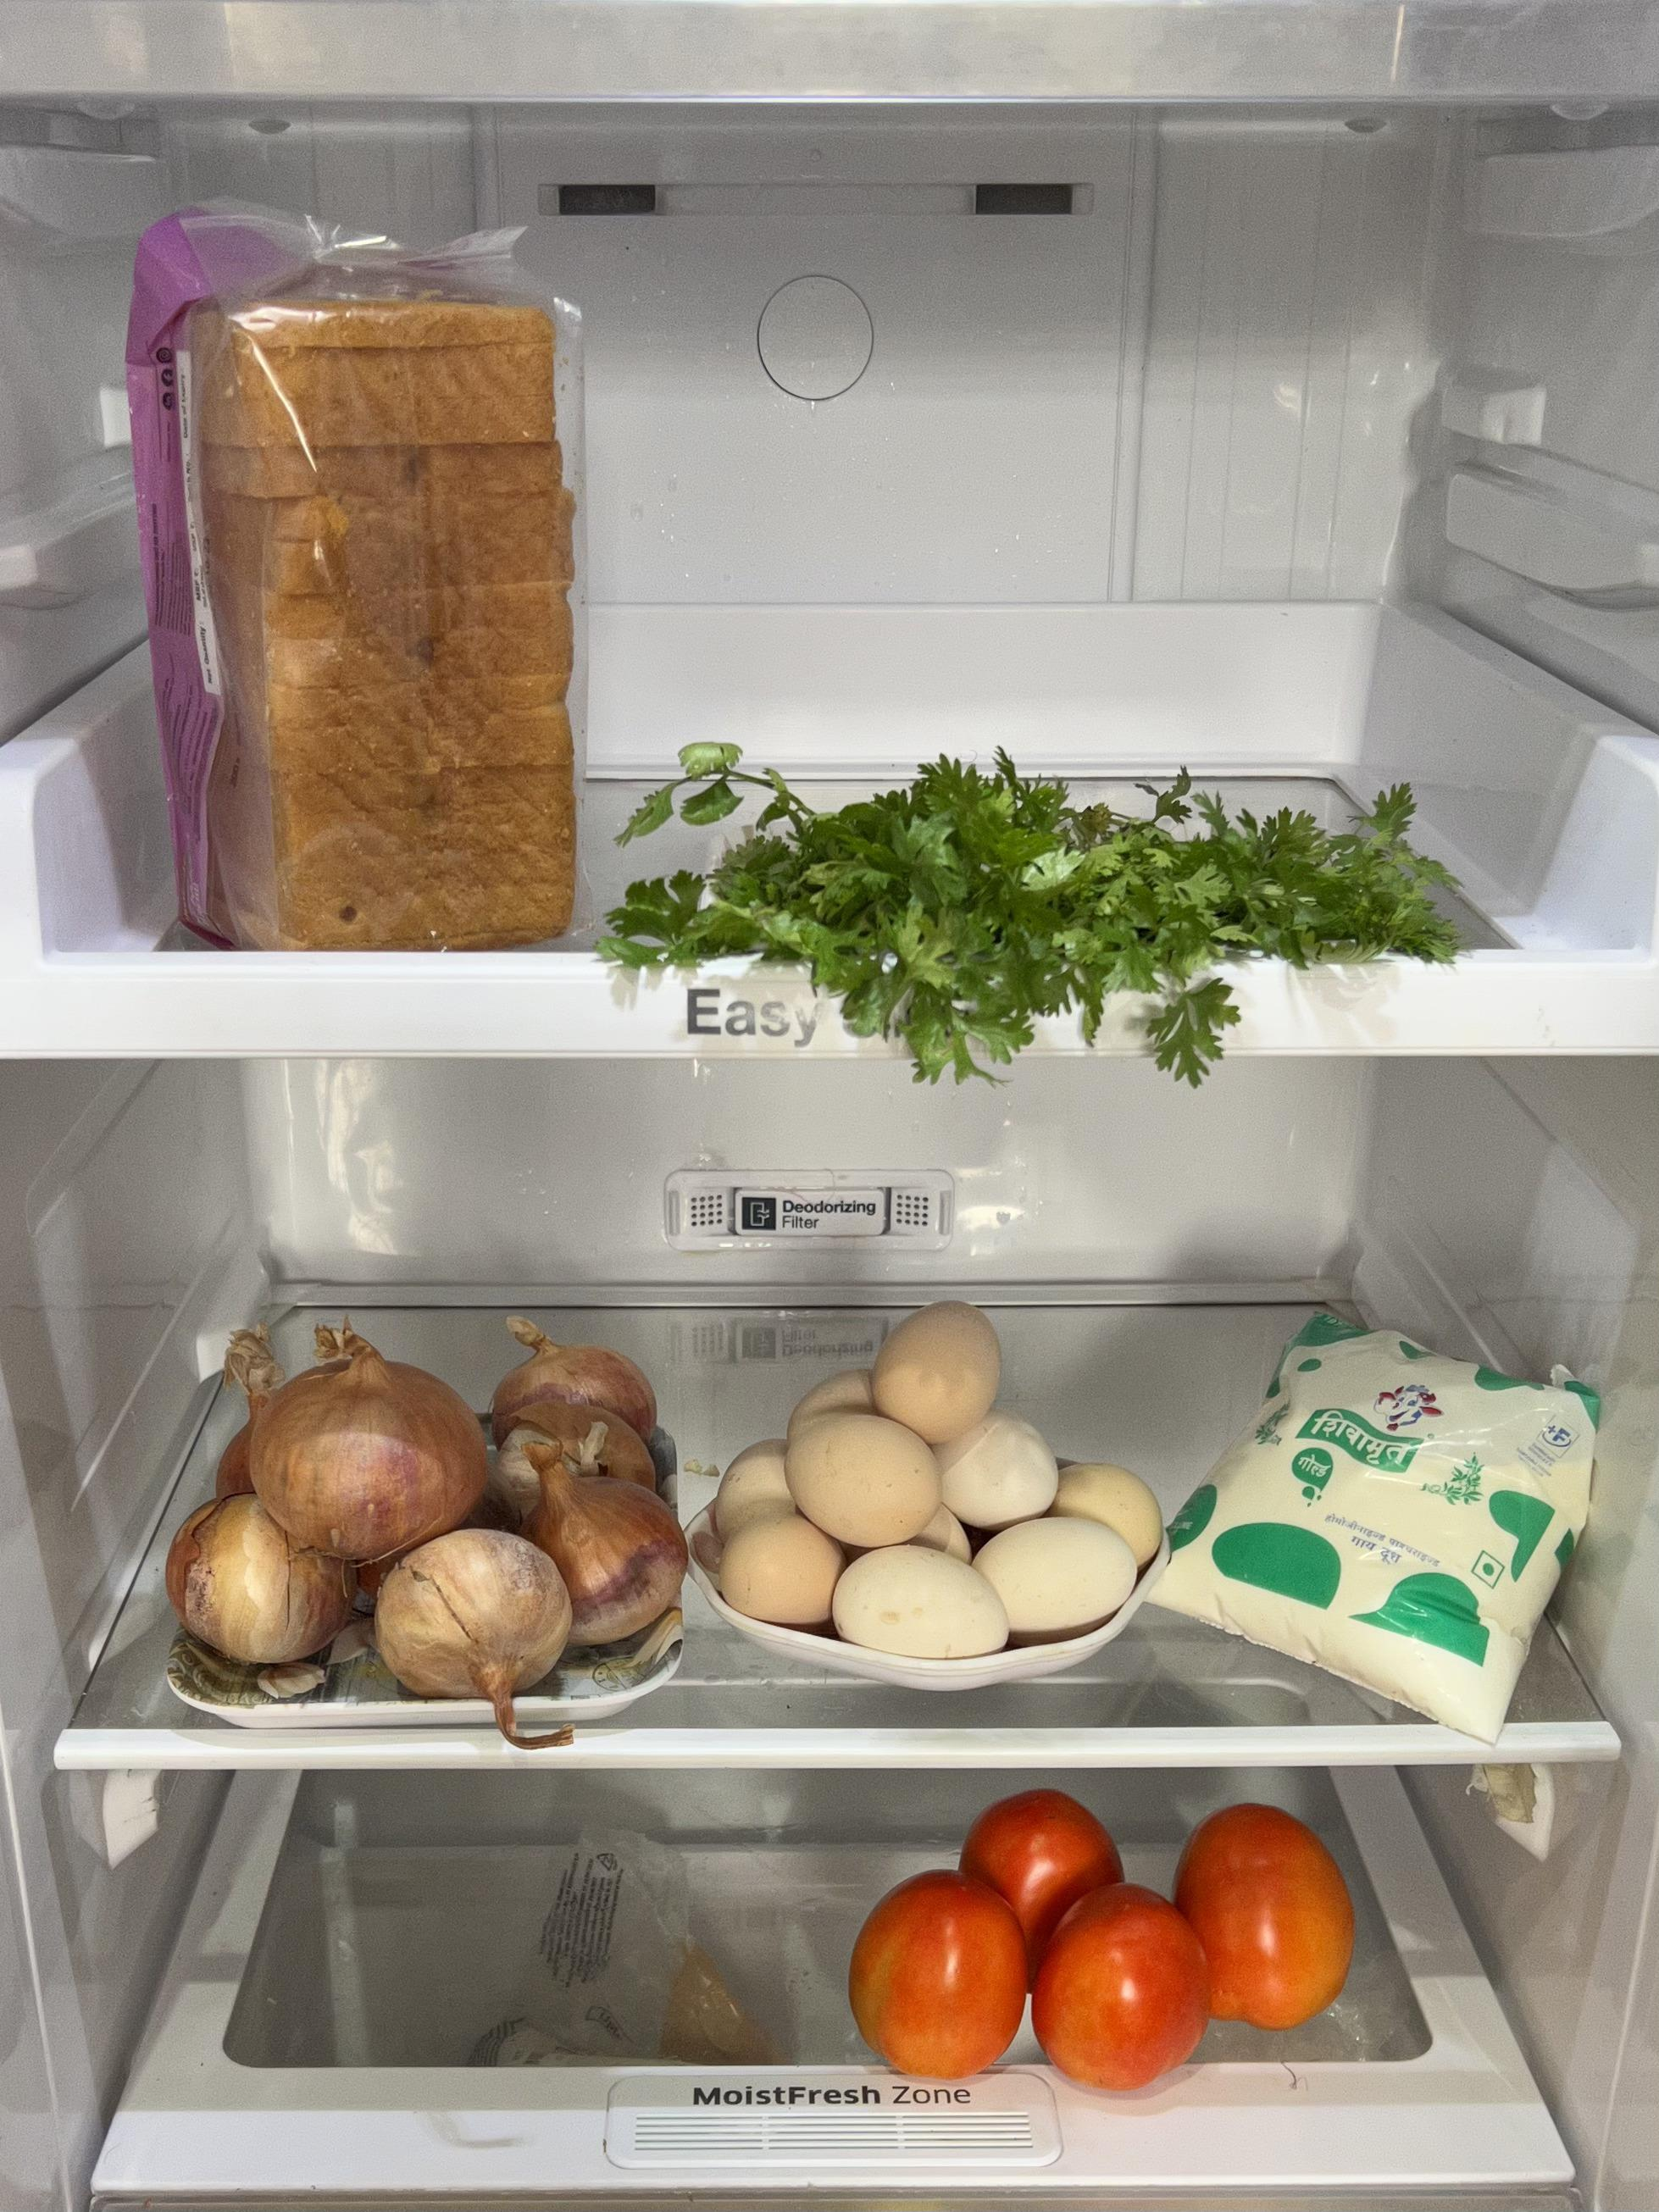bread: (106, 200, 601, 942)
coriander: (624, 733, 1473, 1003)
egg: (711, 1301, 1147, 1667)
milk: (1171, 1315, 1619, 1712)
onion: (159, 1322, 690, 1700)
tomato: (852, 1780, 1352, 2099)
